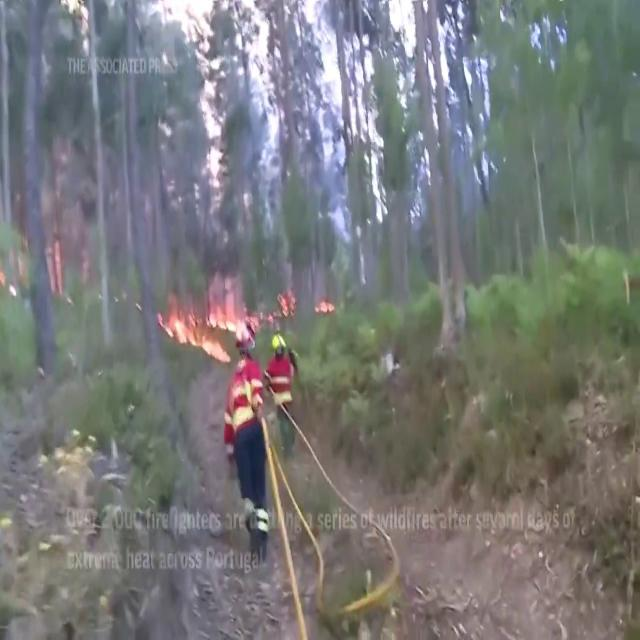Fire: (160, 286, 252, 358)
